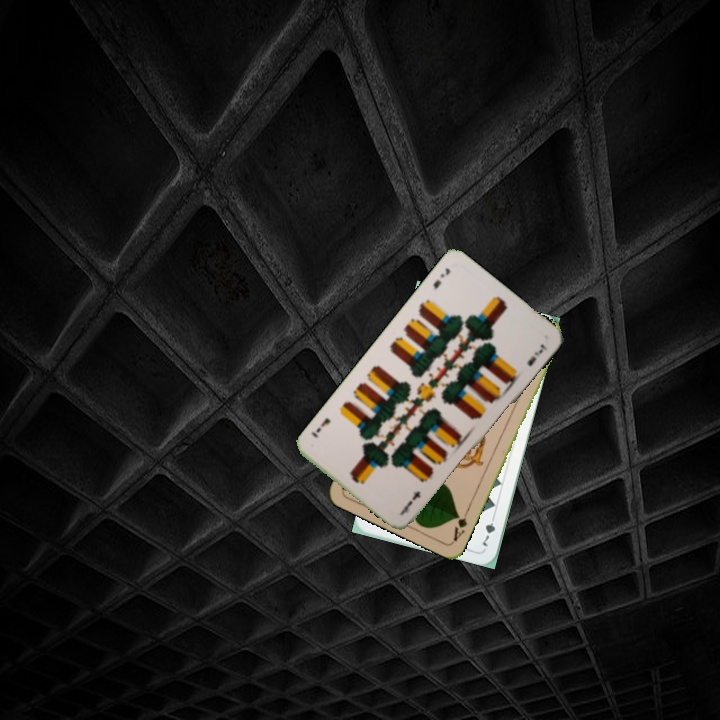E7: (398, 487, 423, 516), (429, 264, 453, 293)
G7: (478, 510, 498, 549)
GA: (449, 505, 471, 544)
